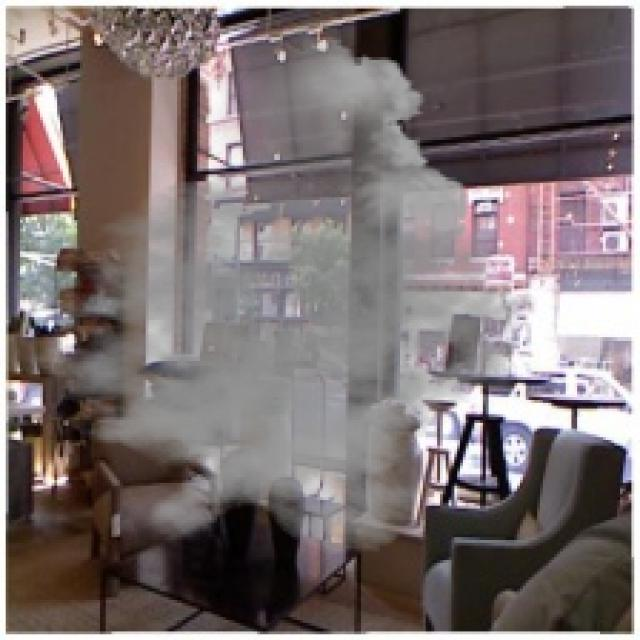smoke: (0, 29, 537, 557)
